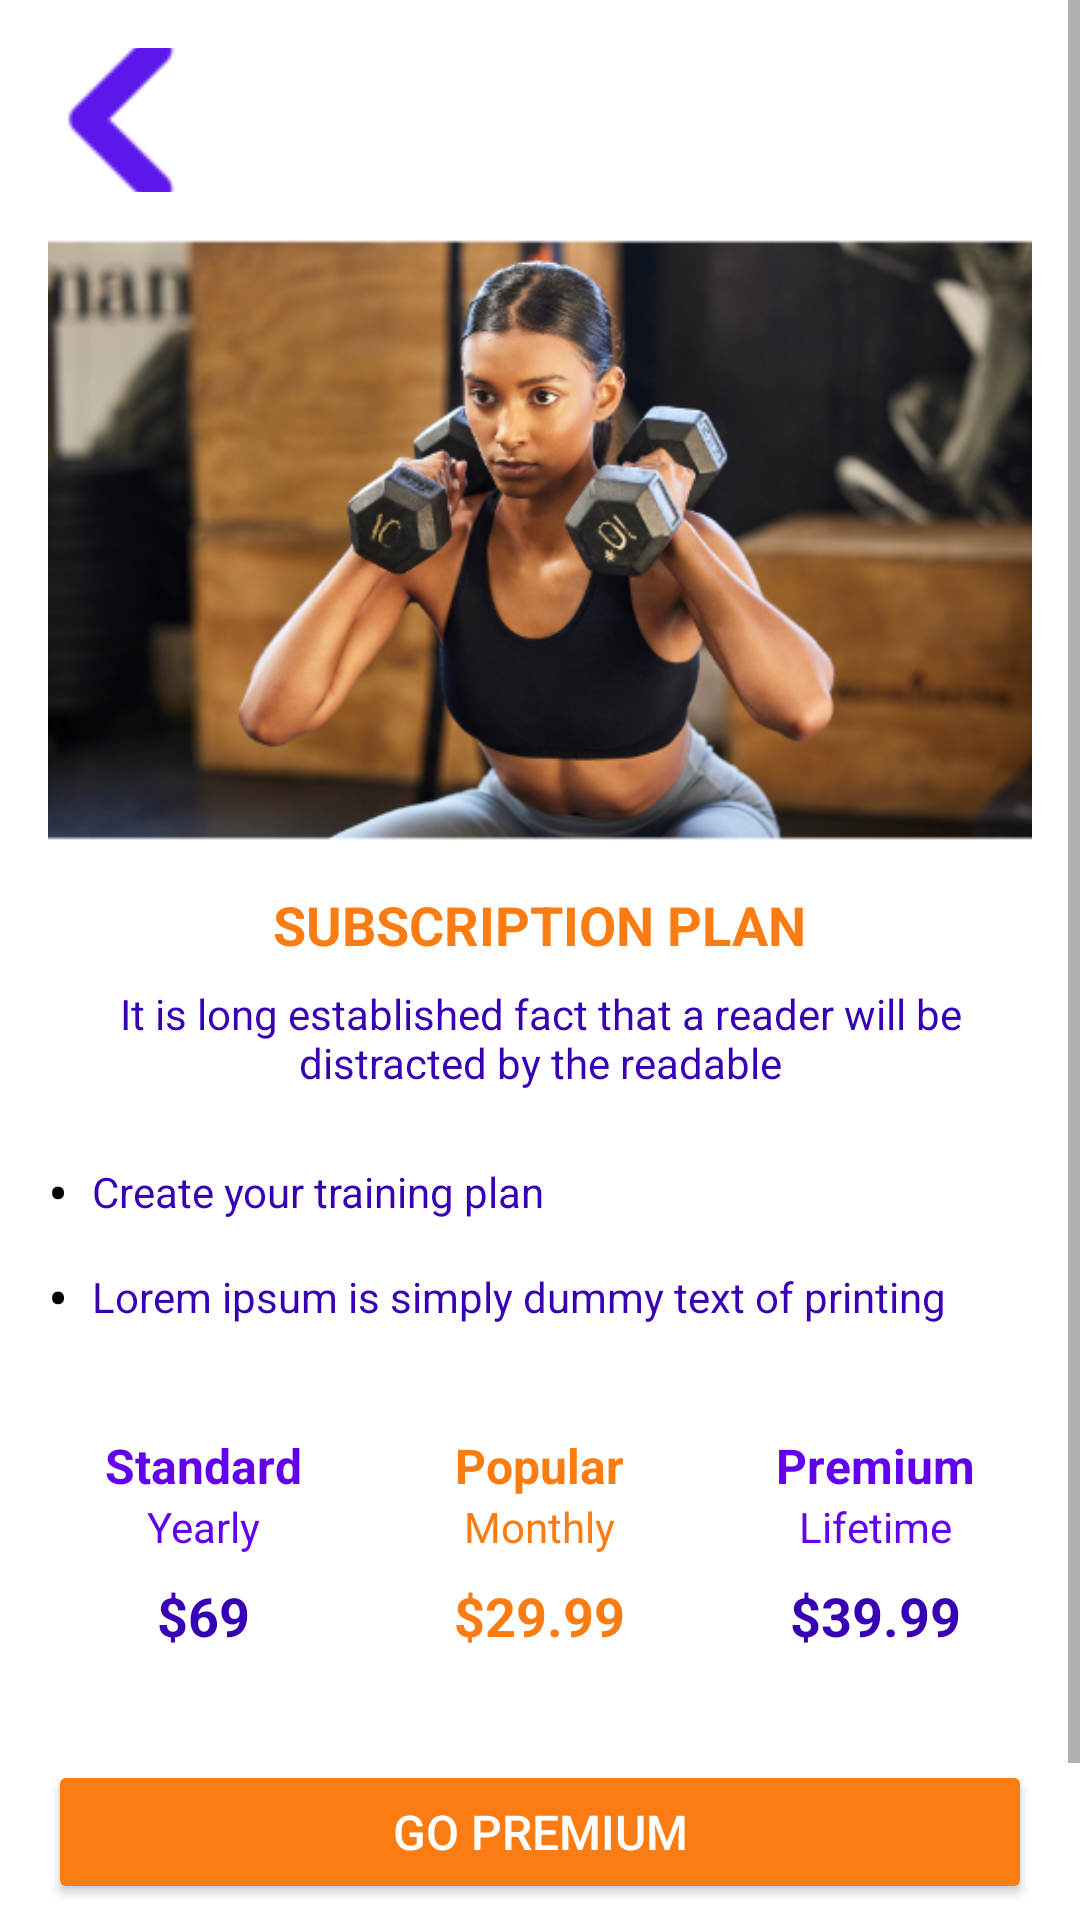

Icon click points for this 1080px×1920px phone screenshot, format point (x, y):
Back: point (121, 120)
